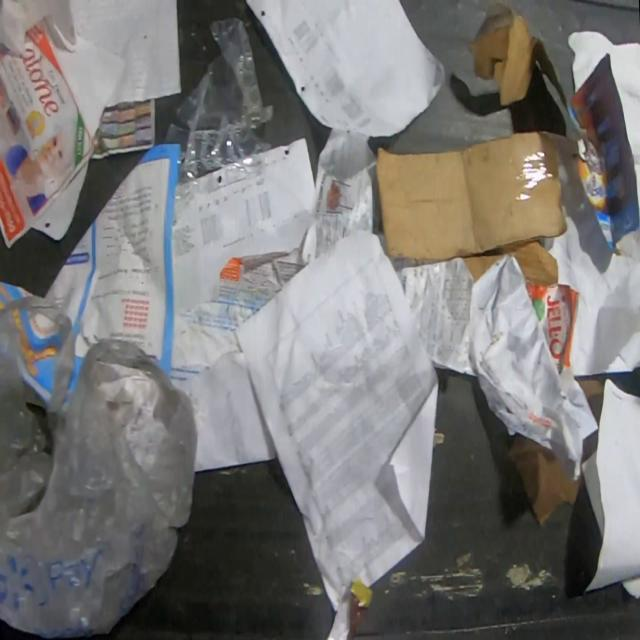cardboard: (375, 129, 578, 262), (466, 0, 569, 120), (504, 429, 585, 527), (525, 279, 580, 374), (460, 240, 558, 287), (573, 372, 632, 427), (581, 428, 598, 464)
rigid_plastic: (162, 15, 274, 218)
soft_plastic: (0, 293, 199, 640)
